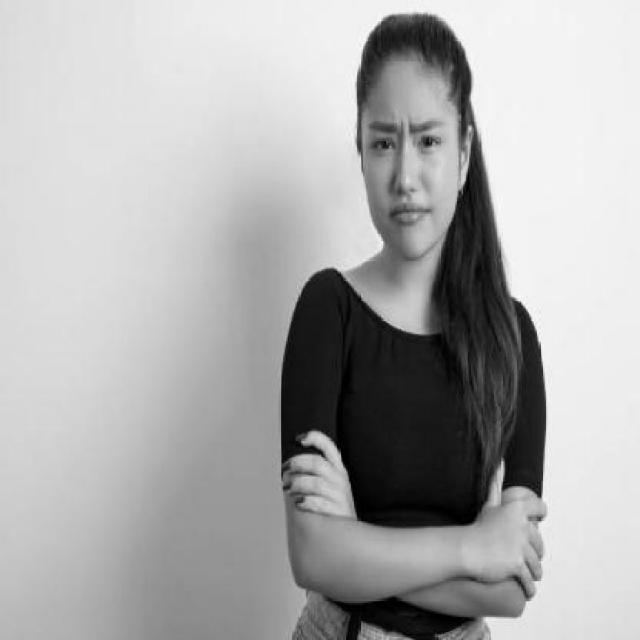angry: (364, 97, 451, 240)
